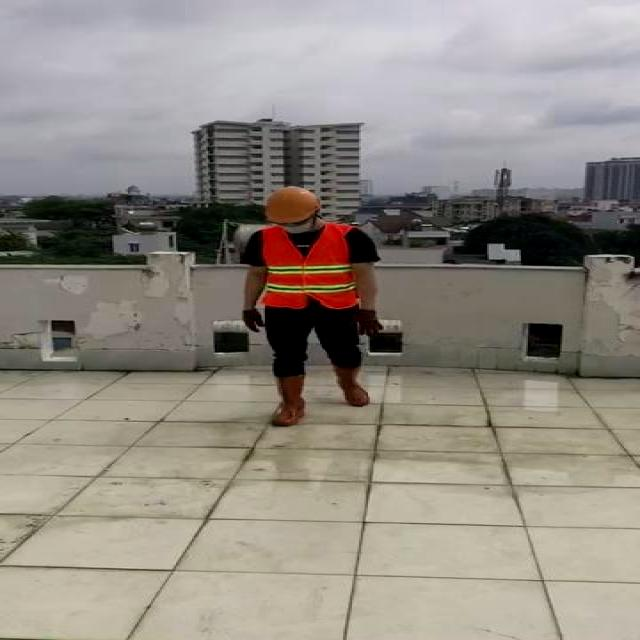boots: (268, 375, 310, 430), (334, 363, 372, 408)
hand_glove: (348, 310, 386, 334), (240, 309, 265, 334)
head_helmet: (266, 185, 319, 225)
person: (233, 185, 395, 432)
vest: (263, 223, 357, 309)
